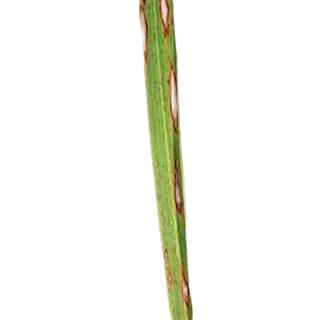Blast: (170, 250, 204, 320), (160, 63, 192, 127), (167, 167, 190, 221), (130, 4, 150, 64), (156, 0, 168, 53), (163, 244, 175, 294)
